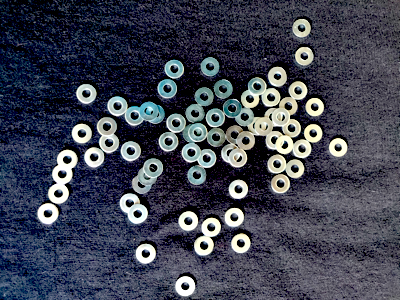circle: (75, 82, 99, 104), (38, 202, 60, 225), (175, 276, 197, 298), (290, 18, 313, 39), (107, 95, 130, 116), (124, 105, 146, 126), (194, 236, 216, 257), (179, 209, 200, 231), (136, 244, 158, 265), (49, 184, 71, 205), (293, 46, 316, 66), (224, 208, 247, 228), (268, 66, 289, 87), (213, 79, 234, 100), (194, 86, 215, 107), (185, 103, 206, 124), (72, 123, 93, 144), (99, 133, 120, 154), (57, 150, 78, 171), (52, 164, 73, 185), (197, 148, 217, 170), (83, 147, 105, 167), (128, 205, 150, 225), (187, 166, 209, 186), (240, 88, 260, 109), (200, 56, 220, 77), (205, 108, 226, 128), (207, 127, 227, 148), (164, 59, 185, 79), (157, 78, 178, 98), (158, 132, 179, 152), (121, 141, 142, 161), (143, 158, 164, 178), (120, 194, 141, 214), (229, 180, 250, 200), (202, 217, 222, 238), (306, 97, 326, 117), (261, 88, 281, 108), (221, 143, 241, 163), (182, 143, 202, 163), (132, 175, 152, 195), (232, 234, 252, 254), (97, 117, 118, 136), (288, 81, 308, 100), (246, 76, 266, 95), (271, 108, 291, 127), (255, 117, 274, 137), (304, 124, 324, 143), (266, 131, 286, 150), (268, 156, 288, 175), (285, 160, 305, 179), (271, 175, 291, 194), (237, 132, 256, 152), (226, 125, 245, 145), (228, 149, 248, 168), (183, 124, 202, 144), (167, 113, 186, 133), (147, 104, 166, 124), (137, 167, 157, 186), (270, 66, 288, 87), (264, 107, 282, 128), (223, 99, 242, 118), (248, 117, 267, 136), (330, 138, 349, 157), (140, 102, 159, 121), (280, 96, 298, 116), (235, 107, 255, 125), (293, 140, 312, 158), (276, 136, 295, 154), (283, 120, 301, 138), (189, 123, 207, 141)
